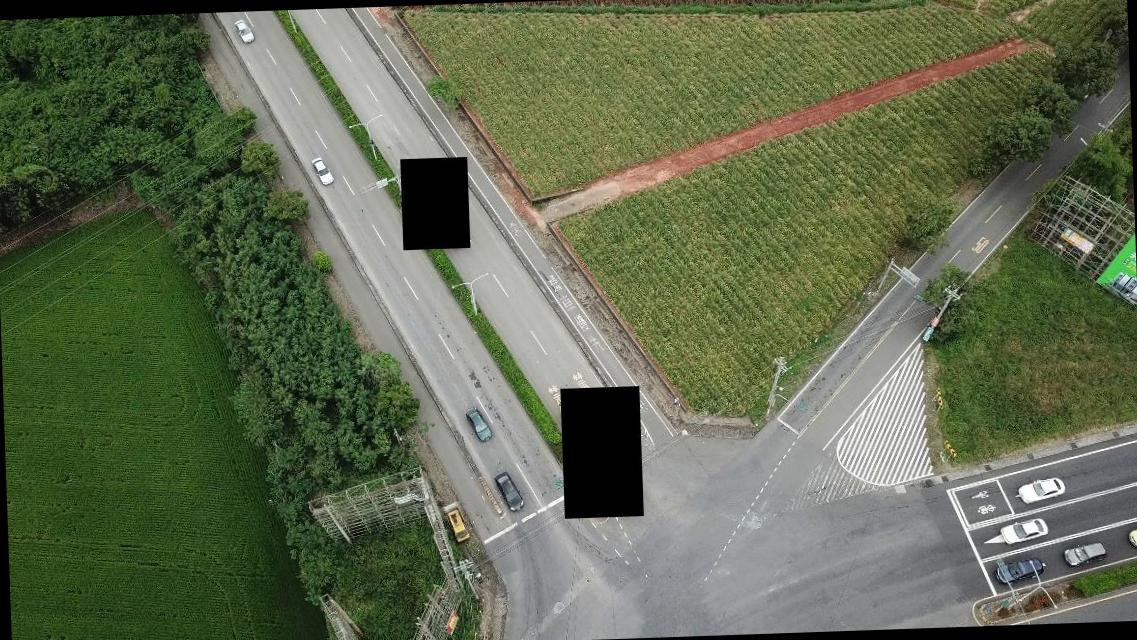vehicle: (1014, 476, 1068, 504), (998, 518, 1048, 546), (995, 556, 1042, 584), (494, 468, 522, 512), (1063, 540, 1106, 566), (464, 406, 492, 442), (444, 507, 467, 542), (310, 155, 333, 186), (232, 18, 255, 44), (1126, 523, 1136, 550)
